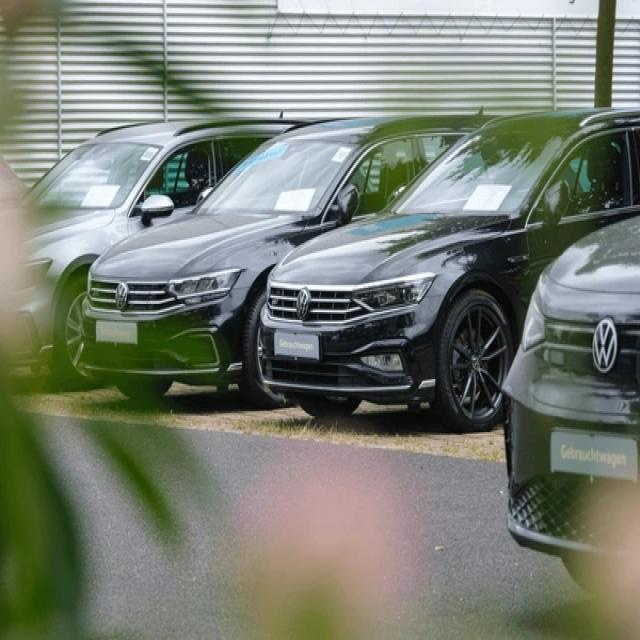wolksvogen: (591, 317, 620, 373), (293, 288, 310, 319), (115, 278, 128, 306)
